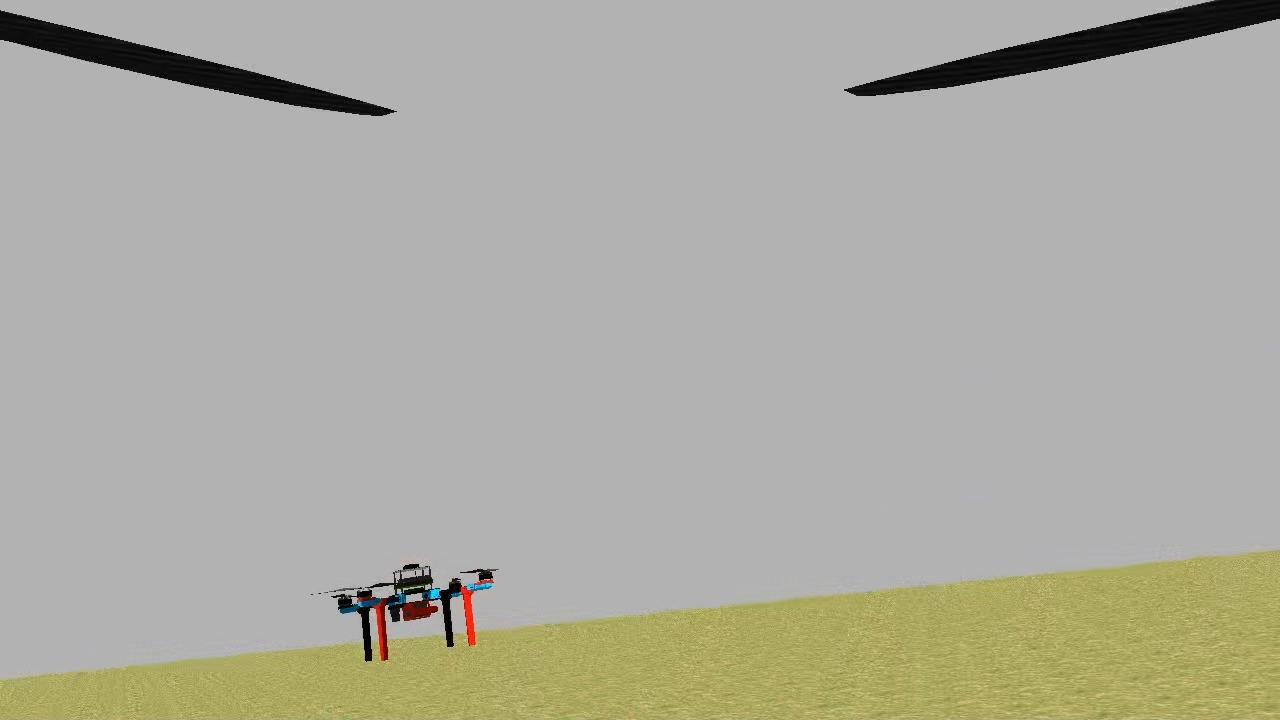UAV: (329, 556, 494, 666)
